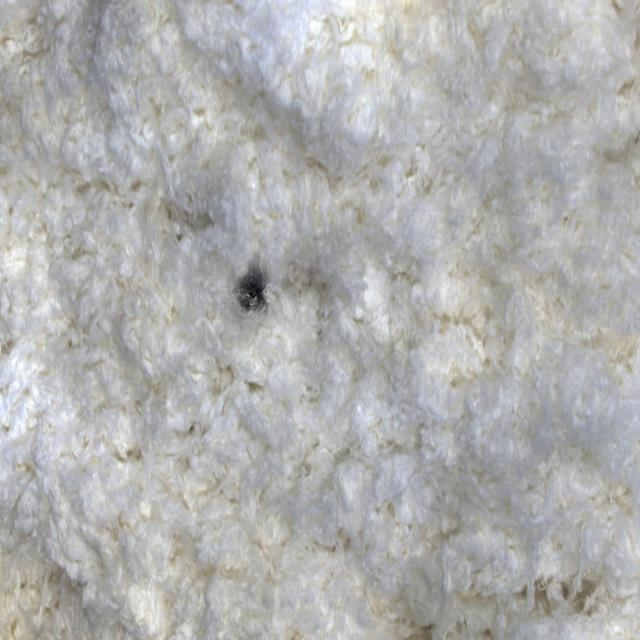dust: (221, 237, 290, 348)
